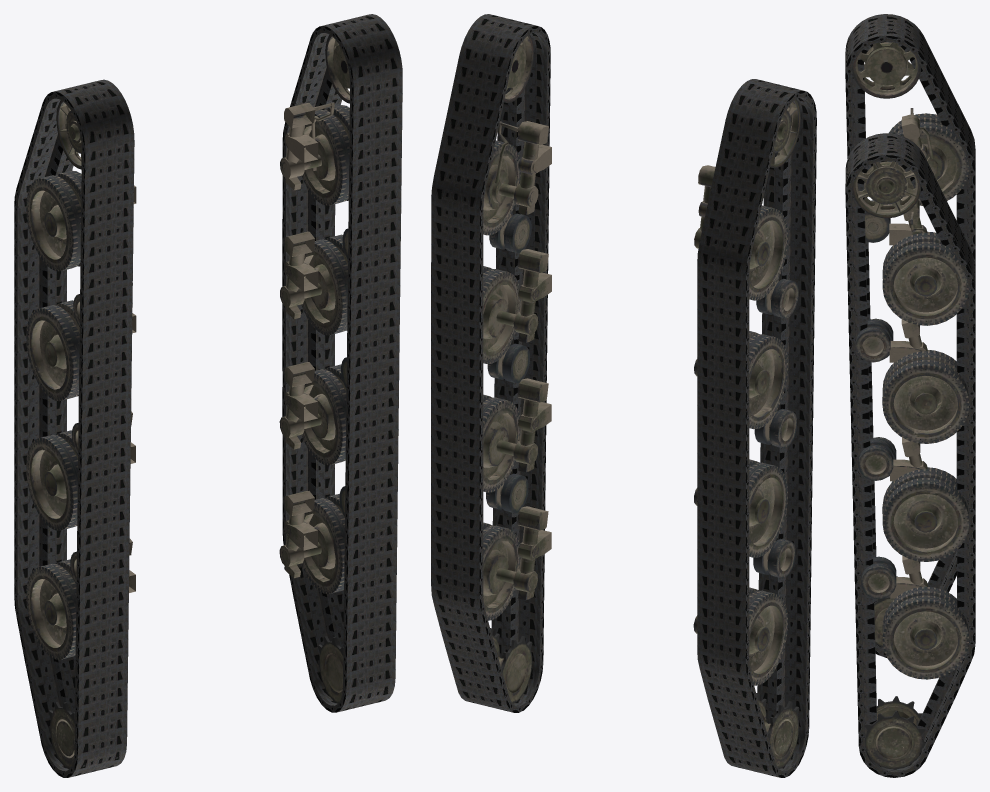
The model's file is Chassis.glb.
3 views of the same model, side by side, from view 1: azimuth 30°, elevation 25°; view 2: azimuth 150°, elevation 25°; view 3: azimuth 270°, elevation 25° (orthographic). The views are drawn at different scales.
Parts seen in each view (by area): view 1: set_0_group_0, set_1_group_0, set_3_group_0, set_2_group_0; view 2: set_0_group_0, set_1_group_0, set_3_group_0, set_2_group_0; view 3: set_3_group_0, set_1_group_0, set_0_group_0, set_2_group_0.
Boxes of the visible parts, box(x1,y1,x2,y2) form: set_0_group_0: box(14, 79, 134, 777); set_1_group_0: box(282, 14, 402, 712); set_3_group_0: box(279, 35, 349, 703); set_2_group_0: box(26, 100, 136, 769); set_0_group_0: box(697, 79, 816, 777); set_1_group_0: box(431, 14, 550, 712); set_3_group_0: box(483, 34, 551, 703); set_2_group_0: box(693, 99, 800, 768); set_3_group_0: box(852, 161, 968, 769); set_1_group_0: box(845, 133, 975, 777); set_0_group_0: box(845, 14, 975, 657); set_2_group_0: box(852, 42, 968, 647).
Size of the model in its own units: 3.22 by 6.62 by 1.25.
4 materials, 4 textured.
